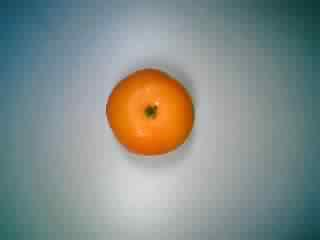orange: (100, 61, 198, 159)
